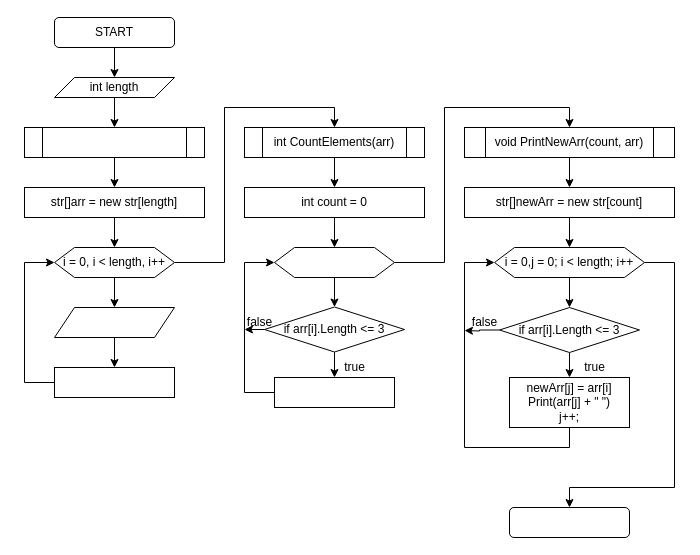
The diagram is 700 pixels wide and 555 high, and some of its shapes have lost their labels. Each missing label, with the centre of its shape:
arr[i] = word: (114,382)
count++: (334,392)
FINISH: (569,522)
i = 0; i < length; i++: (334,262)
str[] CreateArray(length): (114,142)
string word: (114,322)
